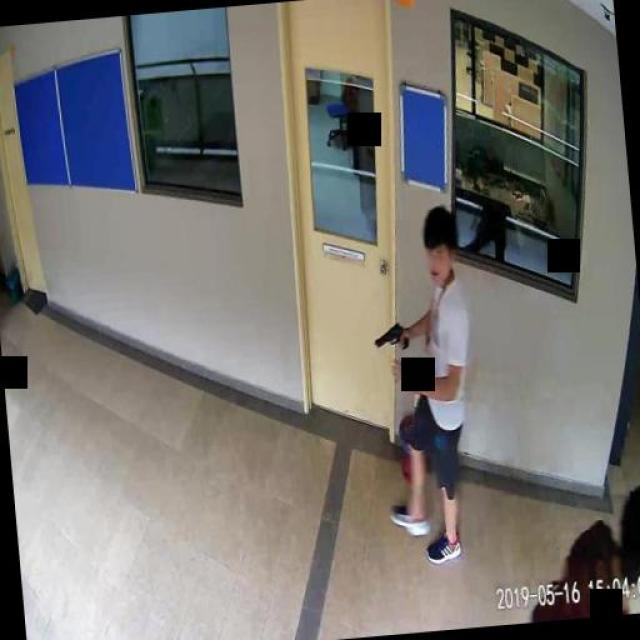gun: (372, 320, 408, 352)
